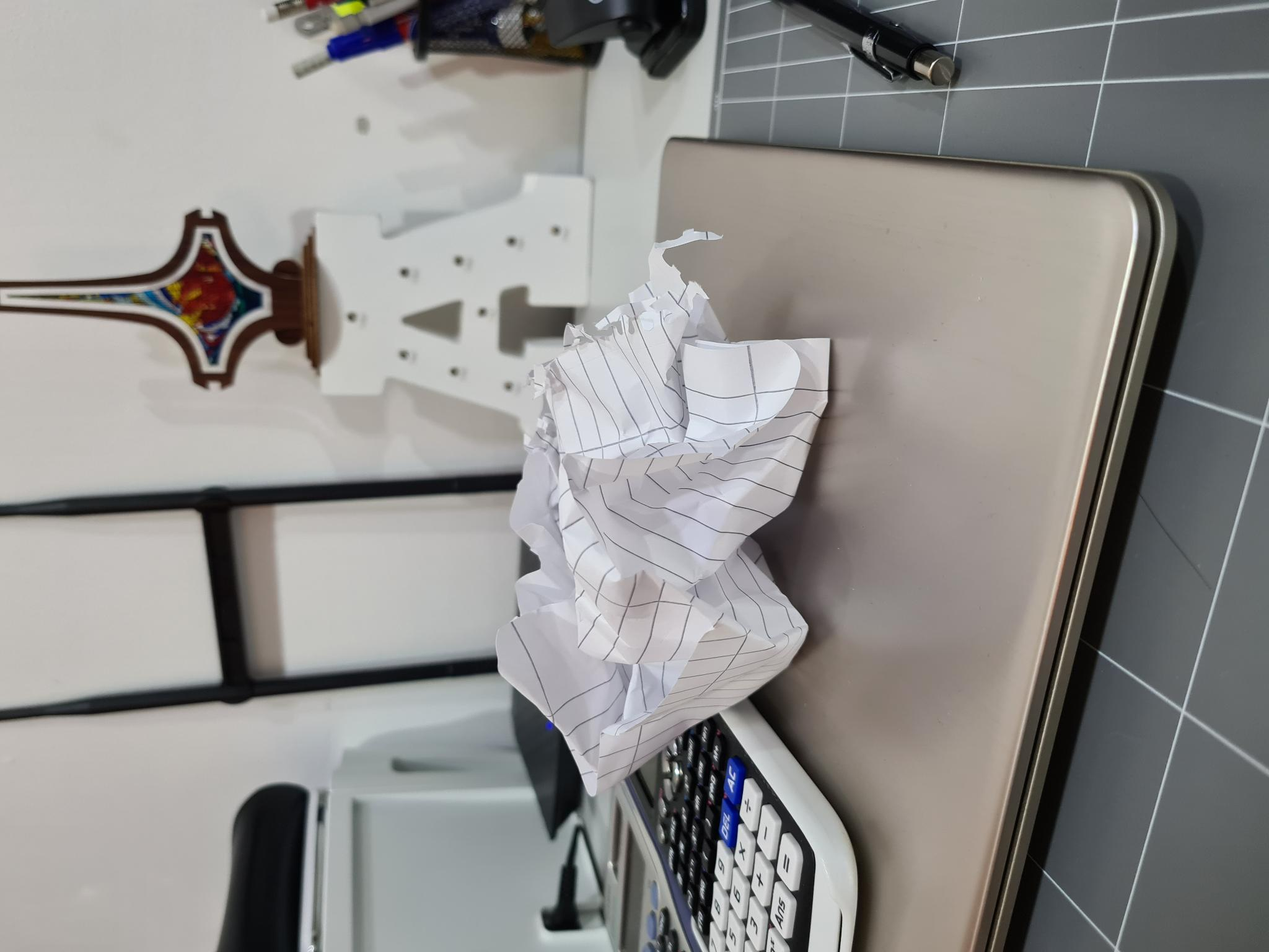Kertas: (216, 517, 678, 809)
